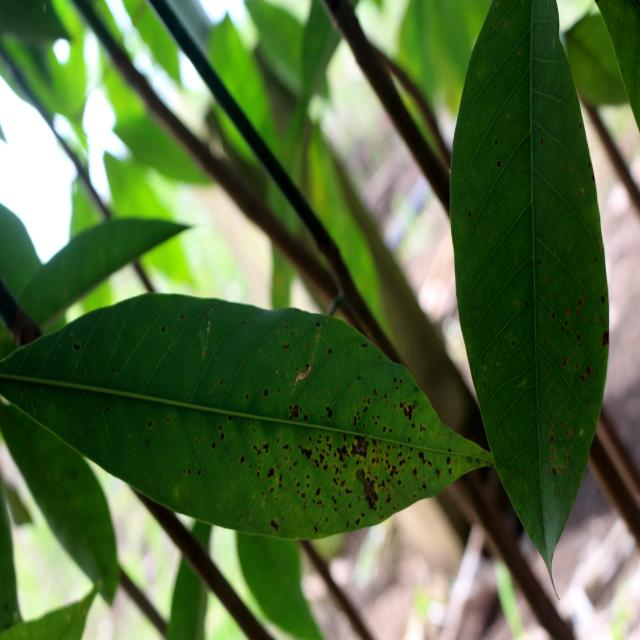Colletotrichum: (268, 468, 274, 478), (264, 389, 268, 397)
Leaf-Blight: (295, 363, 312, 383)
